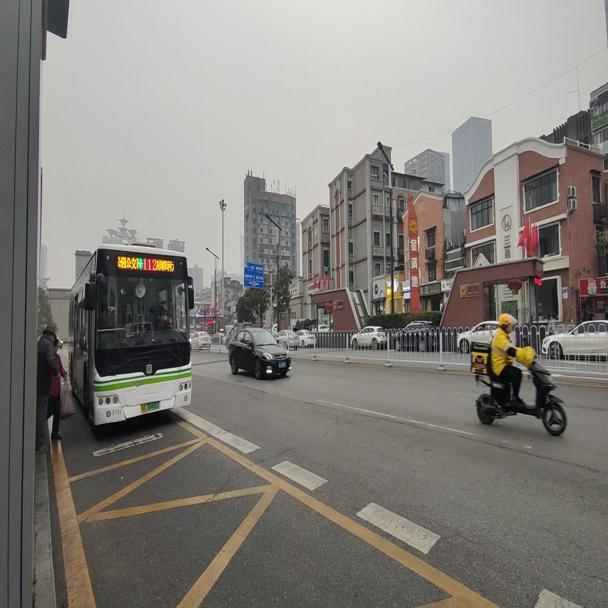bus: (67, 239, 194, 423)
screen: (142, 254, 157, 272)
